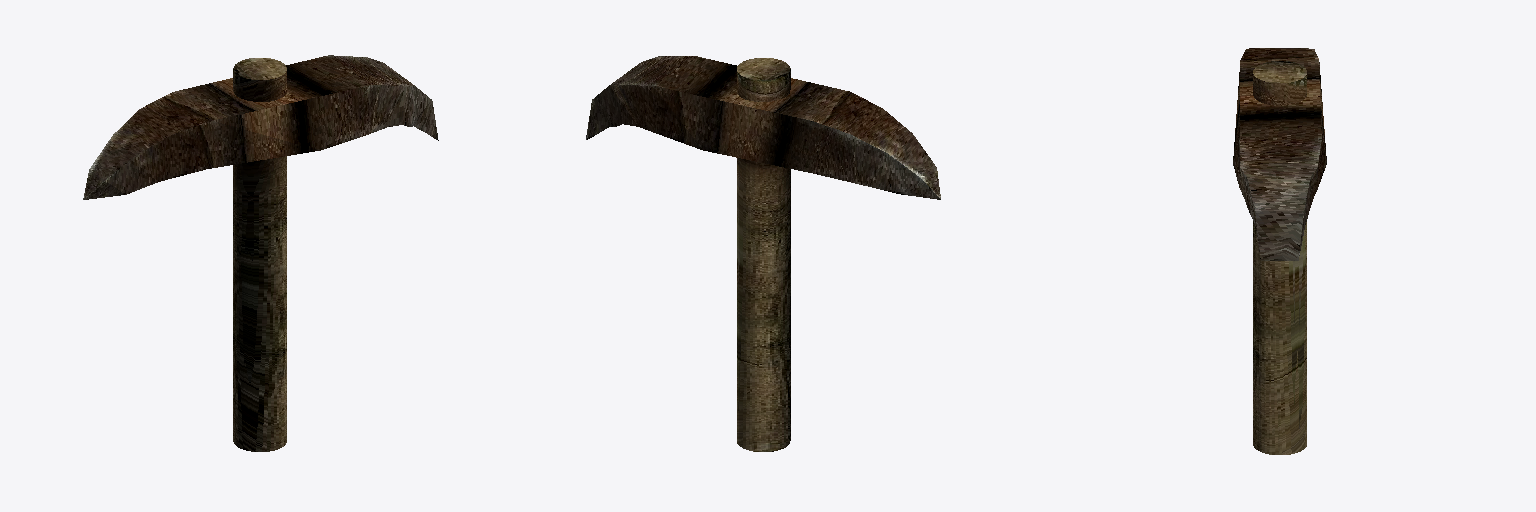
3 views of the same model, side by side, from view 1: azimuth 30°, elevation 25°; view 2: azimuth 150°, elevation 25°; view 3: azimuth 270°, elevation 25° (orthographic).
Parts seen in each view (by area): view 1: Cylinder; view 2: Cylinder; view 3: Cylinder.
Boxes of the visible parts, x1=… form: Cylinder: x1=83, y1=55, x2=438, y2=451; Cylinder: x1=586, y1=56, x2=940, y2=451; Cylinder: x1=1233, y1=48, x2=1326, y2=454.
Bounding box in the file's own units: 4.85 × 4.98 × 1.14.
1 materials, 1 textured.